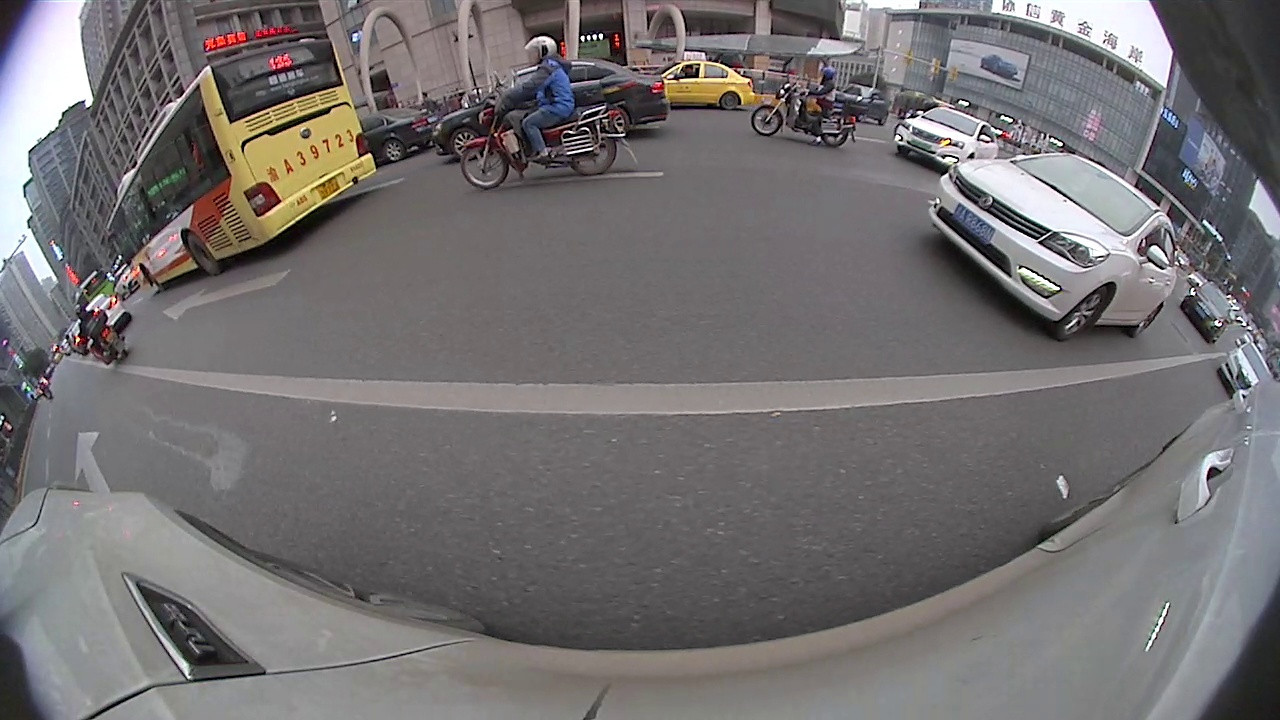bus: (106, 36, 373, 293)
car: (930, 154, 1176, 340), (438, 57, 669, 166), (891, 105, 1003, 173), (651, 51, 754, 108), (1218, 340, 1273, 407), (1181, 280, 1238, 342)
front: (1050, 282, 1108, 345), (460, 137, 513, 191), (749, 103, 783, 138), (448, 128, 479, 162)
rear: (183, 228, 226, 278), (569, 137, 620, 178), (820, 128, 850, 151), (381, 138, 404, 166), (719, 92, 741, 112)
rider: (458, 38, 622, 192), (746, 71, 861, 143), (71, 296, 127, 363)
